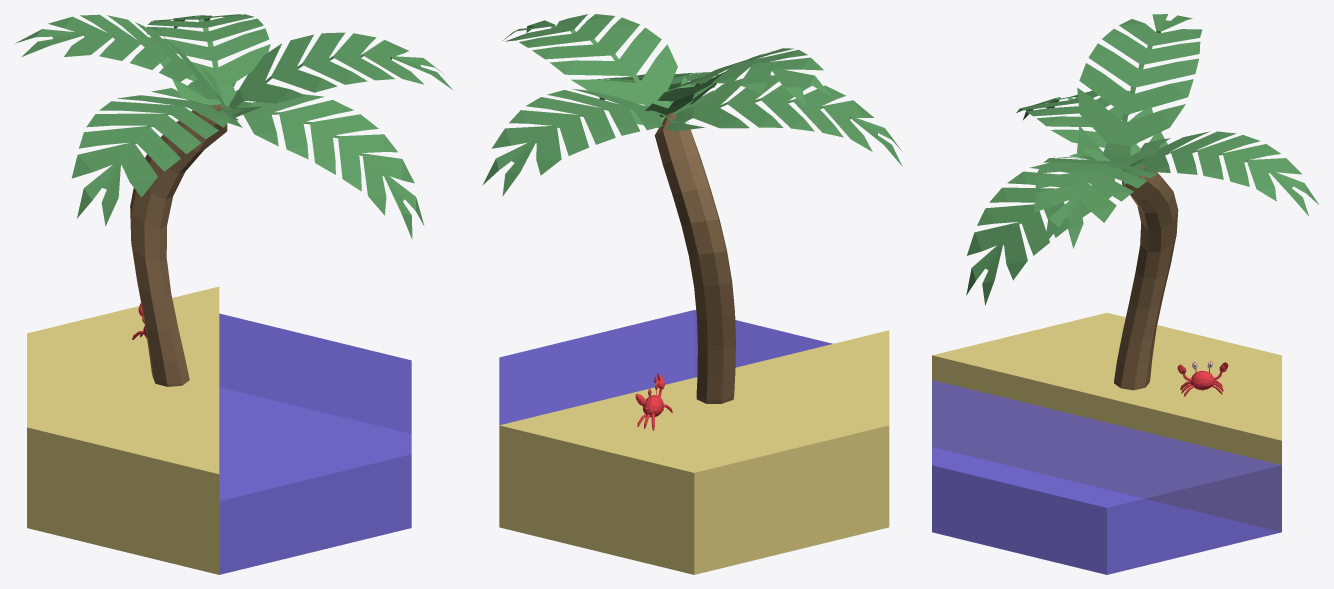
The model's file is HexCell_Beach_1.glb.
3 views of the same model, side by side, from view 1: azimuth 30°, elevation 25°; view 2: azimuth 150°, elevation 25°; view 3: azimuth 270°, elevation 25° (orthographic). The views are drawn at different scales.
Visible parts, largest first — view 1: HexCell_Beach_Connect_3; view 2: HexCell_Beach_Connect_3; view 3: HexCell_Beach_Connect_3.
Boxes of the visible parts, x1=… form: HexCell_Beach_Connect_3: x1=15, y1=14, x2=453, y2=574; HexCell_Beach_Connect_3: x1=482, y1=14, x2=902, y2=574; HexCell_Beach_Connect_3: x1=932, y1=14, x2=1318, y2=574.
Bounding box in the file's own units: 2.09 × 2.25 × 1.92.
